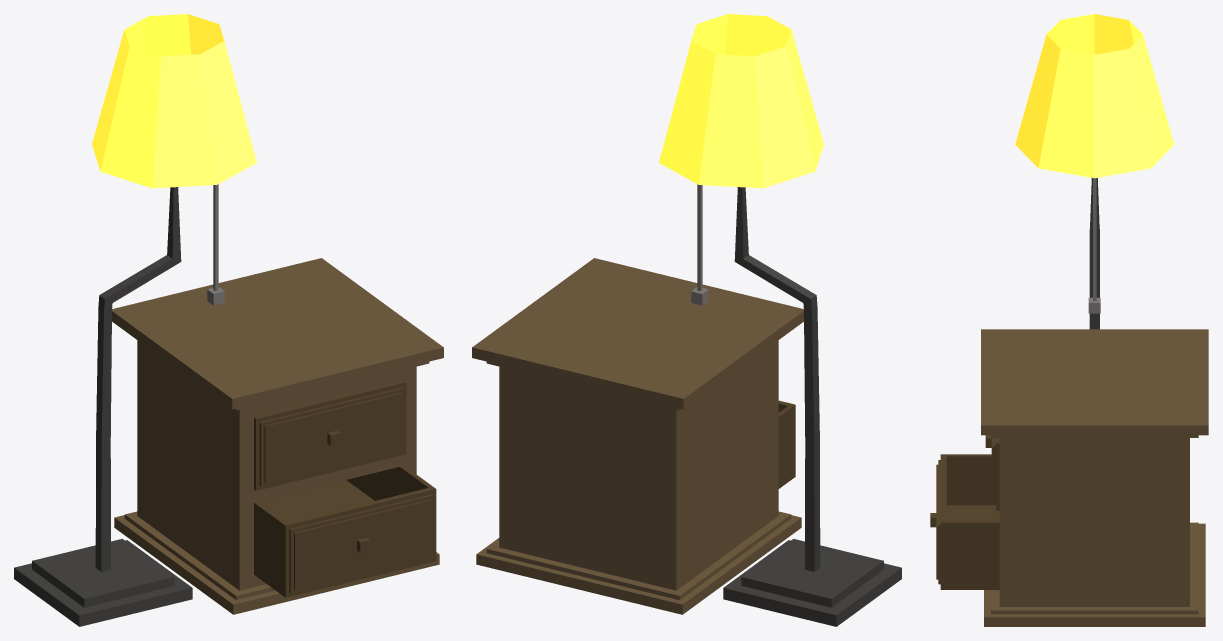
Rendered from lamp.glb.
The picture shows the model from 3 angles, left to right: view 1: azimuth 30°, elevation 25°; view 2: azimuth 150°, elevation 25°; view 3: azimuth 270°, elevation 25°; orthographic projection. The views are drawn at different scales.
Visible parts, largest first — view 1: nighstand, lamp; view 2: nighstand, lamp; view 3: nighstand, lamp.
Boxes of the visible parts, <box> form: nighstand: <box>112,258,443,614</box>; lamp: <box>14,14,256,626</box>; nighstand: <box>472,258,803,614</box>; lamp: <box>659,14,901,626</box>; nighstand: <box>930,329,1208,626</box>; lamp: <box>1015,14,1174,329</box>.
Size of the model in its own units: 594 by 907 by 457.
